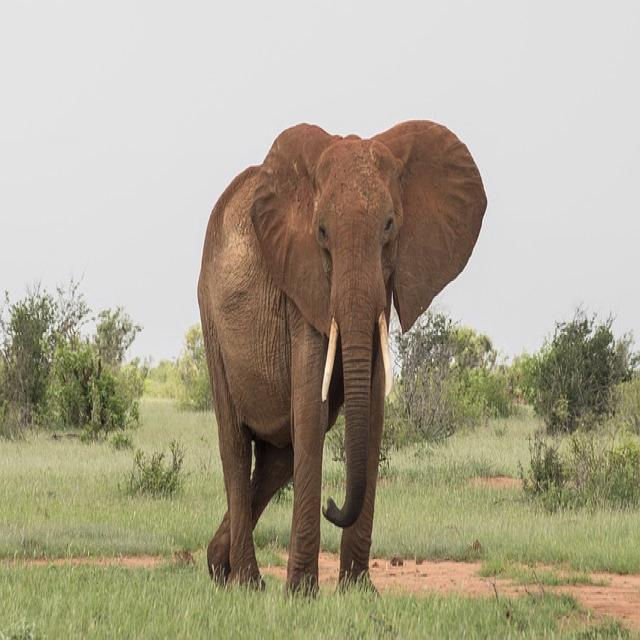FIL: (193, 118, 487, 592)
